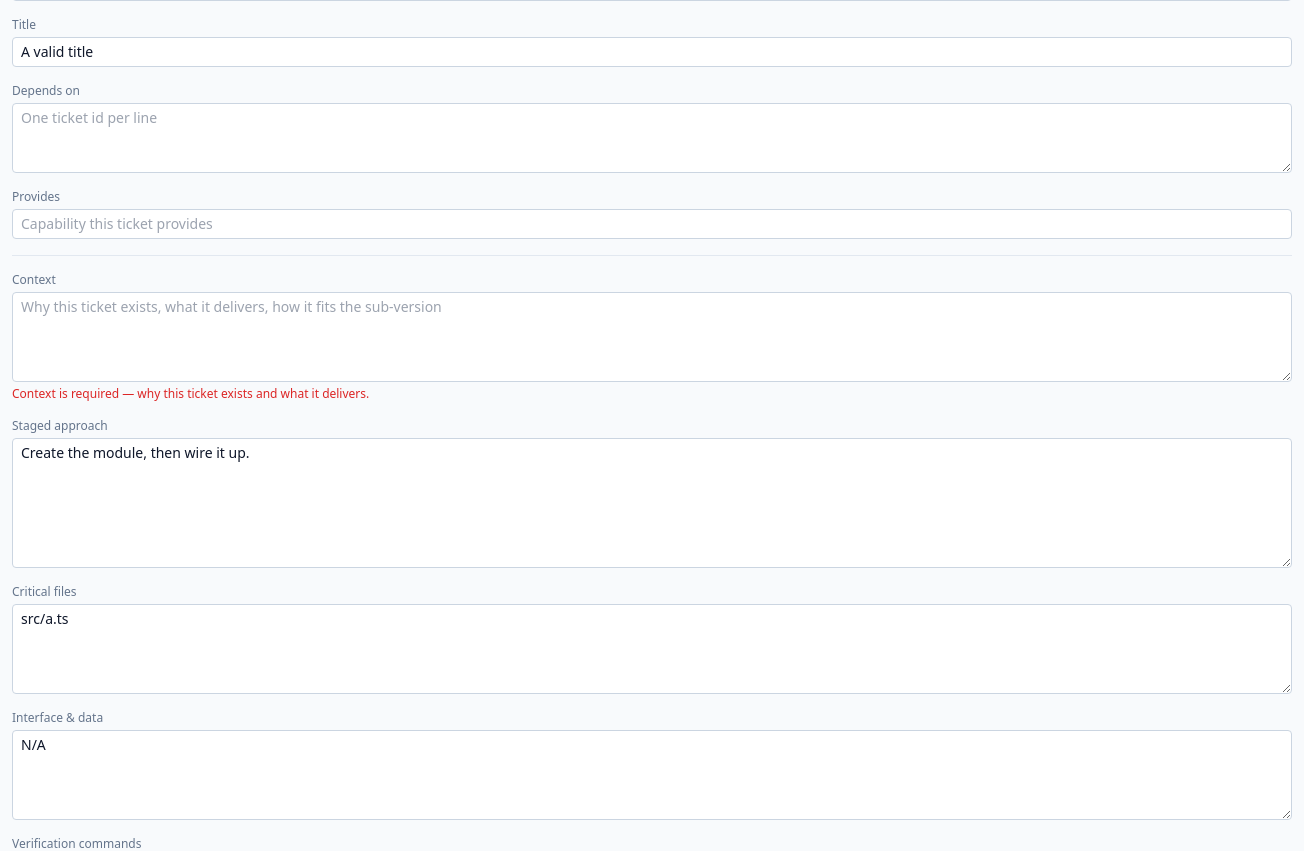
TicketForm › blocks submit while a required content field is blank
The width and height of the screenshot is (1304, 851).
Replace the text in the text box labelled "Context" with "Now filled." at (652, 337), box [12,292,1292,382]
(page scrolled)
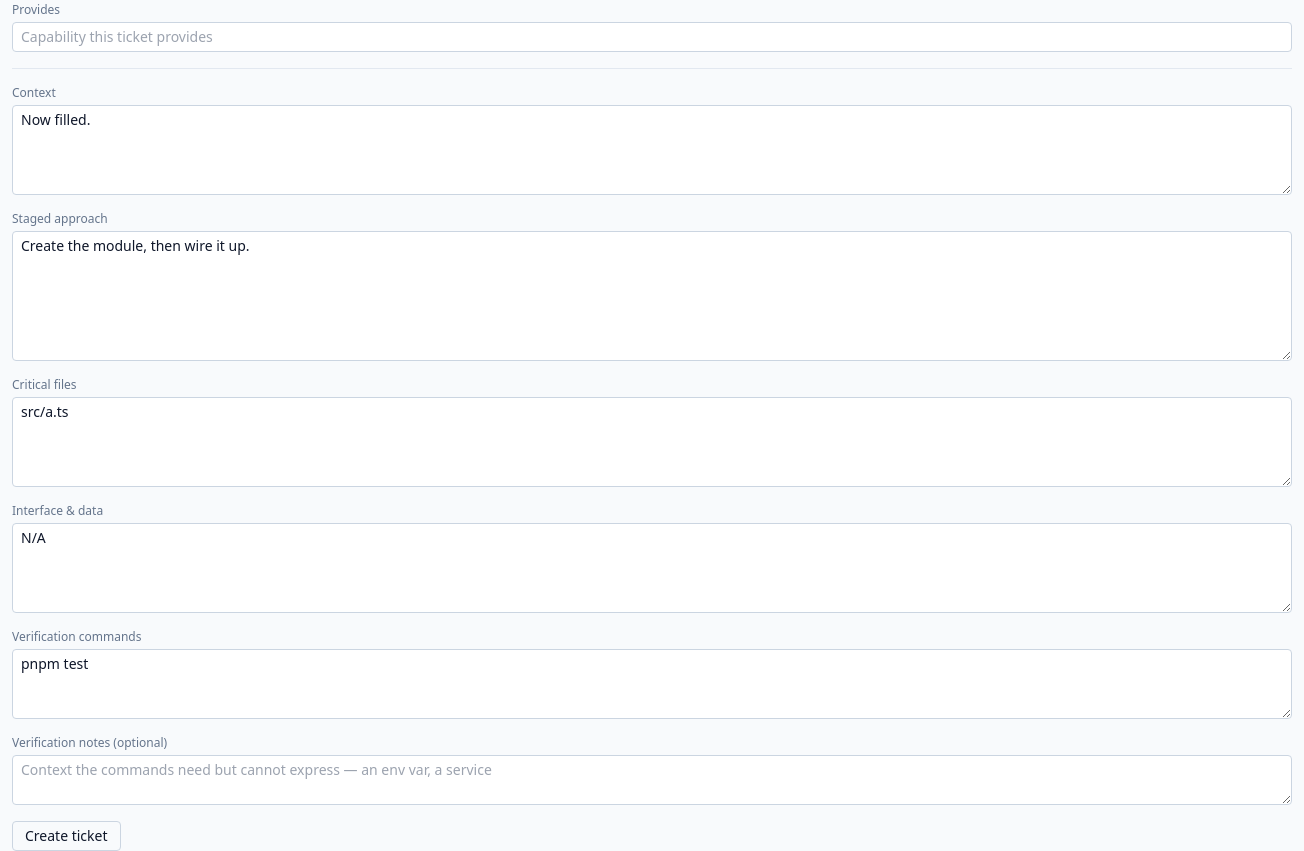
Result: the button "Create ticket" is enabled at [12,821,120,850]
